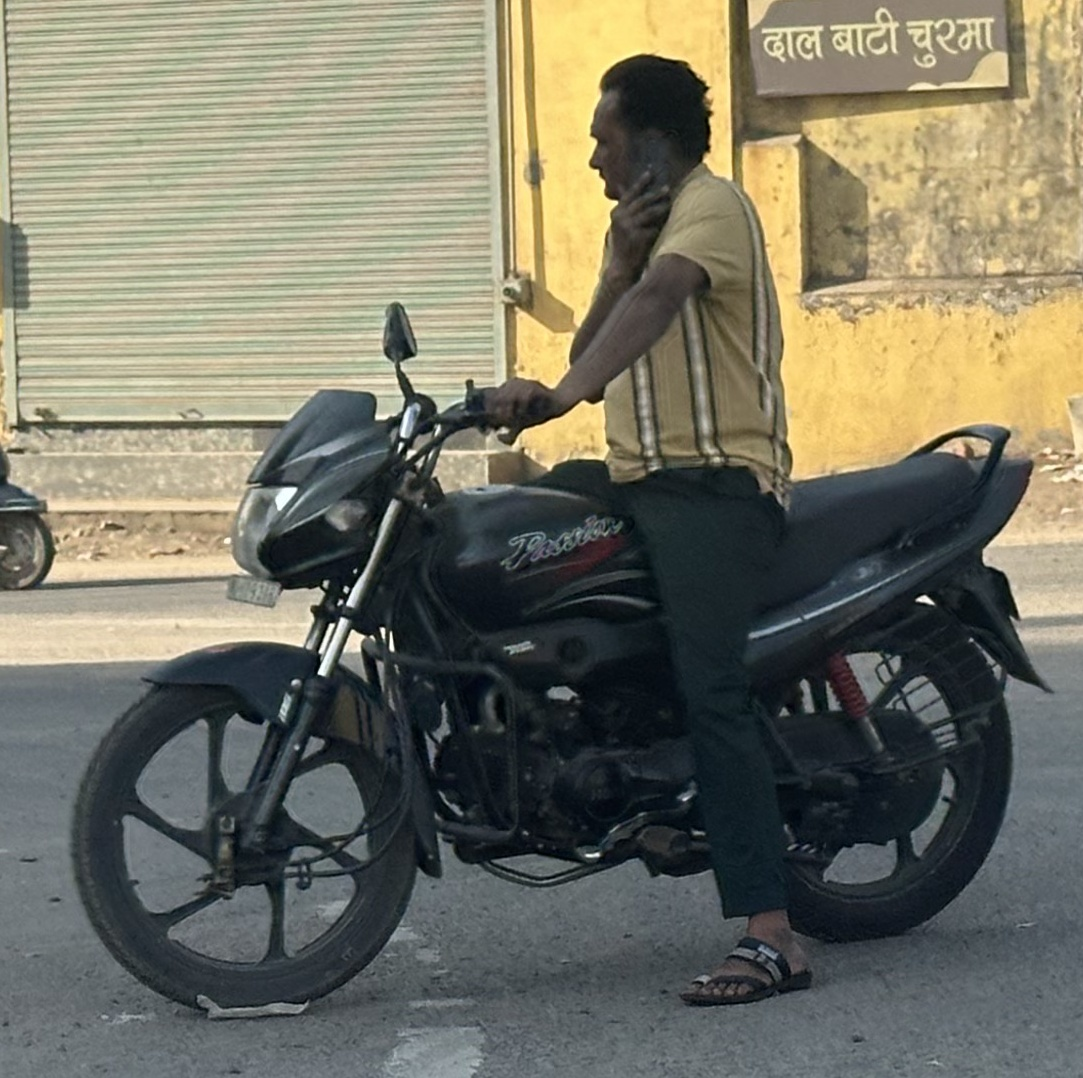BikeWithRider: (54, 39, 1065, 1032)
NoHelmet: (572, 43, 728, 227)
